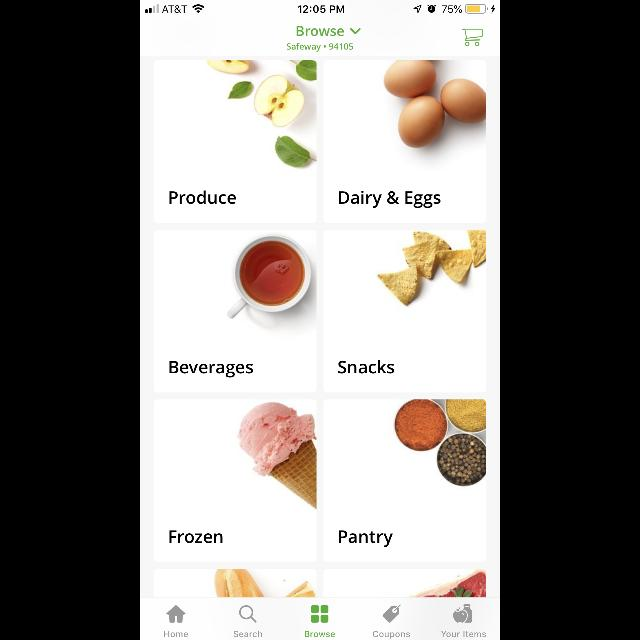icon: (462, 29, 482, 46), (383, 605, 401, 623), (167, 606, 186, 622), (240, 606, 256, 622), (312, 606, 328, 622), (351, 28, 362, 34)
image: (206, 61, 316, 171), (384, 61, 486, 149), (238, 402, 316, 510), (377, 230, 485, 306), (394, 399, 486, 486), (227, 234, 317, 320), (208, 569, 316, 597), (408, 569, 486, 597), (453, 604, 472, 622)
text: (339, 190, 441, 208), (170, 360, 254, 378), (170, 191, 236, 205), (340, 531, 392, 547), (338, 361, 394, 374), (170, 530, 222, 544), (287, 44, 353, 52), (296, 26, 344, 36), (372, 631, 410, 639), (442, 631, 486, 637), (305, 631, 335, 637), (234, 631, 262, 637), (164, 631, 188, 637)
uppertaskbar: (140, 0, 500, 14)
